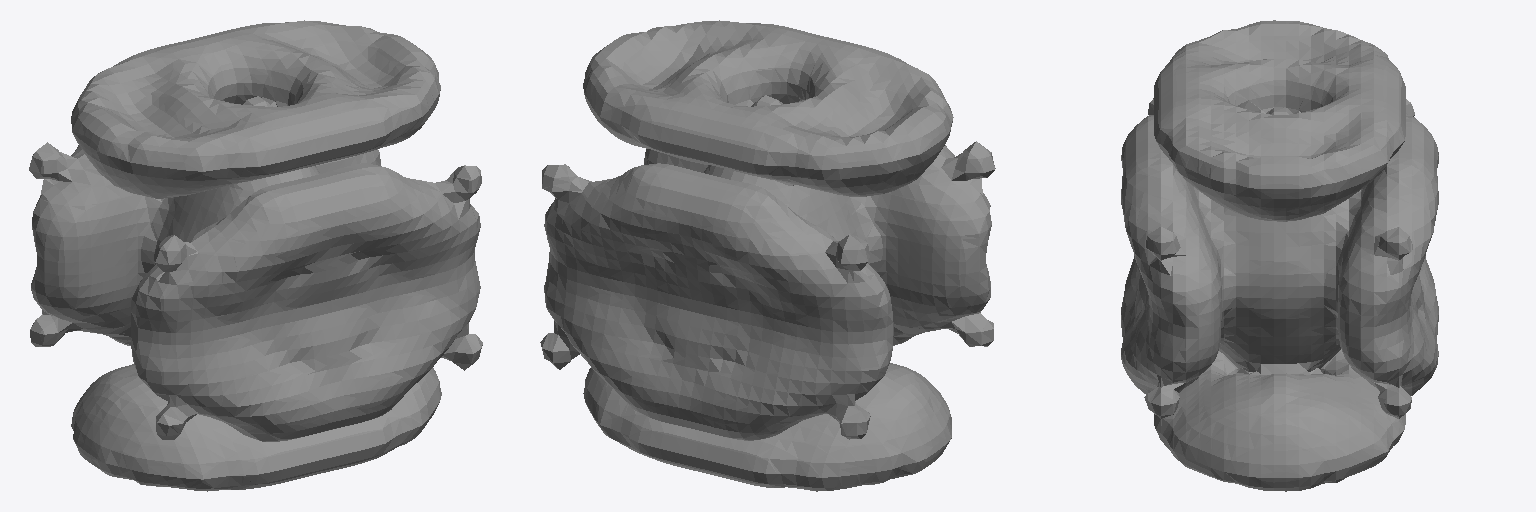
robot.urdf — cube.urdf:
<?xml version="0.0" ?> 
<robot name="cube.urdf"> 
<link name="legobrick"> 
<contact> 
<lateral_friction value="5.0"/> 
<rolling_friction value="0.0"/> 
<contact_cfm value="0.0"/> 
<contact_erp value="1.0"/> 
</contact> 
<inertial> 
<origin rpy="0 0 0" xyz="0.0 0.0 0.0"/> 
<mass value=".01"/> 
<inertia ixx="1" ixy="0" ixz="0" iyy="1" iyz="0" izz="1"/> 
</inertial> 
<visual> 
<origin rpy="1.570796 0 0" xyz="-0.02645908012888747 0.026444860094187648 -0.026458200716400142"/> 
<geometry> 
<mesh filename="Q16_2.obj" scale="0.0006019315478823924 0.0006019315478823924 0.0006019315478823924"/> 
</geometry> 
<material name="yellow"> 
<color rgba="0.6 0.6 0.6 1"/> 
</material> 
</visual> 
<collision> 
<origin rpy="1.570796 0 0" xyz="-0.02645908012888747 0.026444860094187648 -0.026458200716400142"/> 
<geometry> 
<mesh filename="Q16_2.obj" scale="0.0006019315478823924 0.0006019315478823924 0.0006019315478823924"/> 
</geometry> 
</collision> 
</link> 
</robot>

--- What the picture shows (computed from the rendered views, not written in the file) ---
The picture shows the robot from 3 angles, left to right: view 1: azimuth 30°, elevation 25°; view 2: azimuth 150°, elevation 25°; view 3: azimuth 270°, elevation 25°; orthographic projection.
Robot: cube.urdf — 1 links, 0 joints (none); root link legobrick; default pose: every joint at zero.
Links seen in each view (by area): view 1: legobrick; view 2: legobrick; view 3: legobrick.
Link boxes in pixels (x1,y1,x2,y2): legobrick: [29, 20, 482, 491]; legobrick: [540, 20, 995, 491]; legobrick: [1121, 20, 1438, 491].
Size in the robot's own frame: 0.056 by 0.0482 by 0.0572 metres.
1 mesh visuals loaded from 1 distinct referenced files (1 OBJ).
